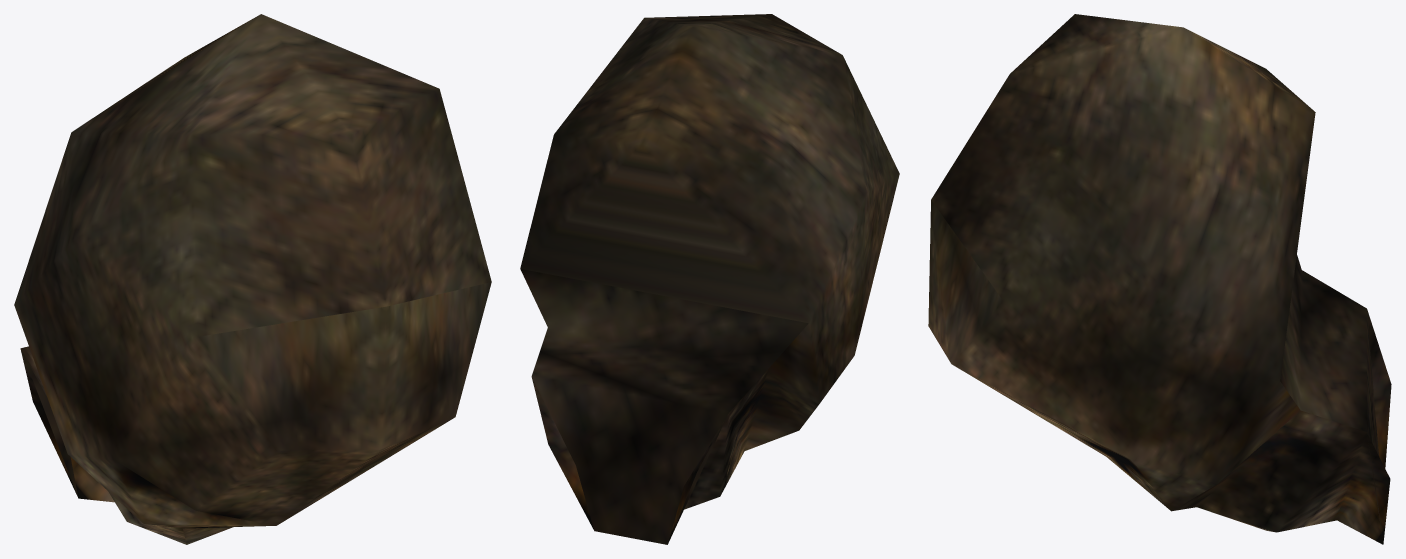
Rendered from skull.obj.
3 views of the same model, side by side, from view 1: azimuth 30°, elevation 25°; view 2: azimuth 150°, elevation 25°; view 3: azimuth 270°, elevation 25° (orthographic). The views are drawn at different scales.
Parts seen in each view (by area): view 1: (null); view 2: (null); view 3: (null).
Part boxes in pixels (x1,y1,x2,y2): (null): [14, 14, 491, 544]; (null): [520, 14, 899, 544]; (null): [928, 14, 1391, 544].
Size of the model in its own units: 0.764 by 1.07 by 0.8691.
